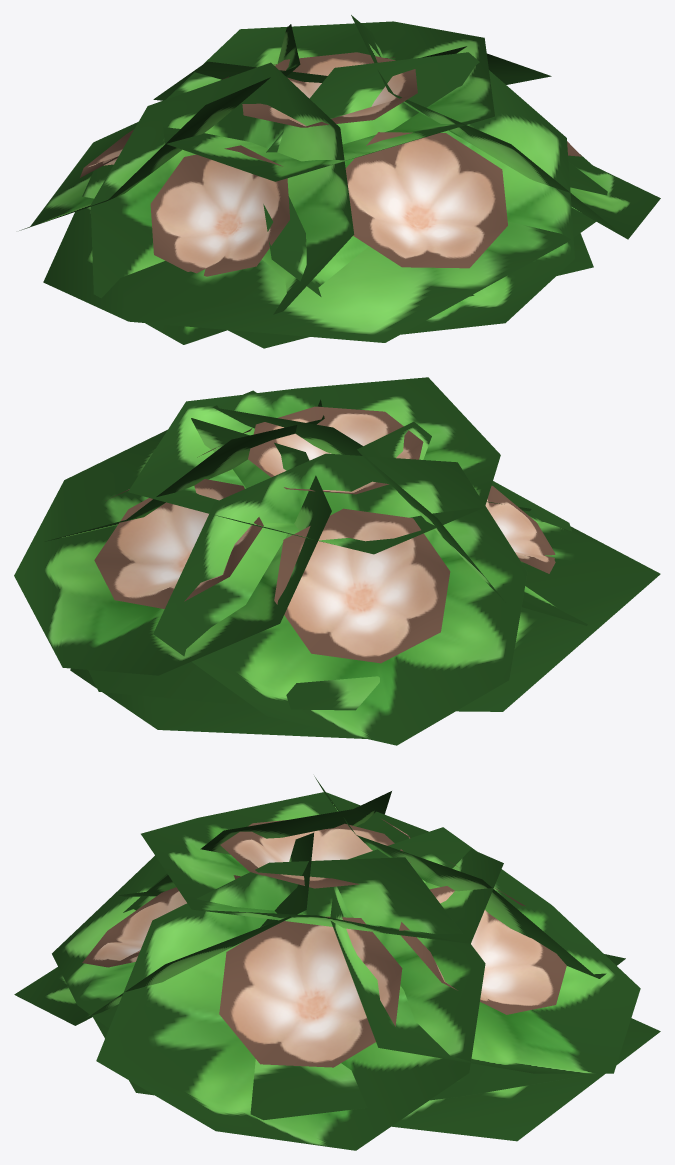
File: Flower_Bush1.obj
The picture shows the model from 3 angles, top to bottom: view 1: azimuth 30°, elevation 25°; view 2: azimuth 150°, elevation 25°; view 3: azimuth 270°, elevation 25°; orthographic projection. The views are drawn at different scales.
Parts seen in each view (by area): view 1: Plane151, Plane141, Plane136, Plane140, Plane147, Plane142, Plane149, Plane145, Plane148, Plane143, Plane152, Plane146; view 2: Plane145, Plane143, Plane146, Plane151, Plane147, Plane144, Plane152, Plane148, Plane141, Plane149, Plane142, Plane136; view 3: Plane149, Plane143, Plane150, Plane151, Plane147, Plane152, Plane144, Plane136, Plane148, Plane145, Plane141, Plane140.
Part boxes in pixels (<box>): Plane151: <box>43,162,607,342</box>; Plane141: <box>90,62,354,344</box>; Plane136: <box>263,52,574,334</box>; Plane140: <box>345,132,507,268</box>; Plane147: <box>163,21,494,181</box>; Plane142: <box>150,145,289,276</box>; Plane149: <box>351,15,660,239</box>; Plane145: <box>19,24,300,230</box>; Plane148: <box>242,52,417,127</box>; Plane143: <box>153,46,551,100</box>; Plane152: <box>228,233,593,348</box>; Plane146: <box>80,76,228,177</box>; Plane145: <box>153,453,527,745</box>; Plane143: <box>14,418,331,675</box>; Plane146: <box>274,508,450,663</box>; Plane151: <box>88,522,660,711</box>; Plane147: <box>128,377,500,554</box>; Plane144: <box>94,479,263,608</box>; Plane152: <box>70,668,366,738</box>; Plane148: <box>248,406,423,494</box>; Plane141: <box>357,421,587,625</box>; Plane149: <box>45,399,324,541</box>; Plane142: <box>485,486,555,573</box>; Plane136: <box>212,390,531,511</box>; Plane149: <box>96,857,485,1150</box>; Plane143: <box>330,827,640,1073</box>; Plane150: <box>219,916,402,1067</box>; Plane151: <box>52,855,595,1120</box>; Plane147: <box>141,792,503,943</box>; Plane152: <box>93,1017,660,1141</box>; Plane144: <box>399,886,566,1014</box>; Plane136: <box>14,832,313,1025</box>; Plane148: <box>220,820,410,888</box>; Plane145: <box>314,776,625,978</box>; Plane141: <box>118,791,391,896</box>; Plane140: <box>82,875,240,967</box>.
Size of the model in its own units: 0.8765 by 0.3452 by 0.8839.
